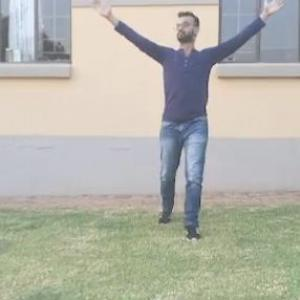takeoff: (72, 0, 300, 249)
